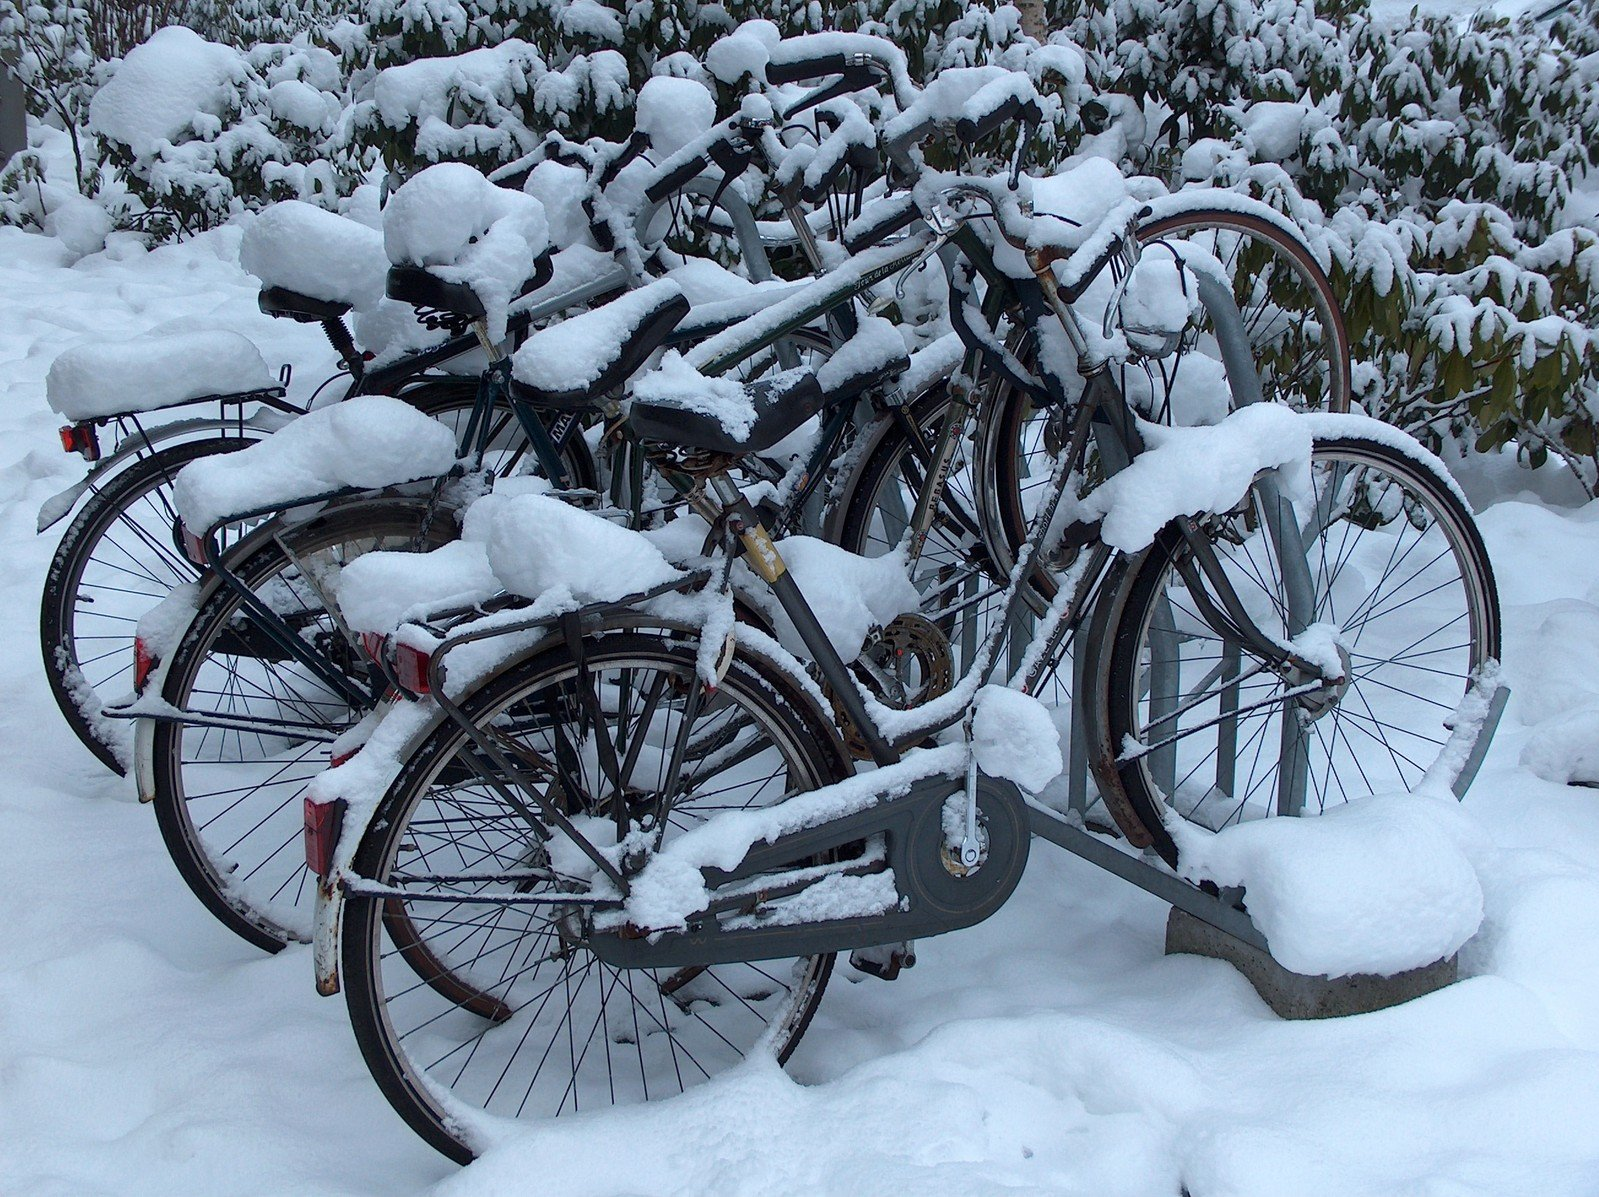Bicycle: (30, 88, 1599, 1178)
